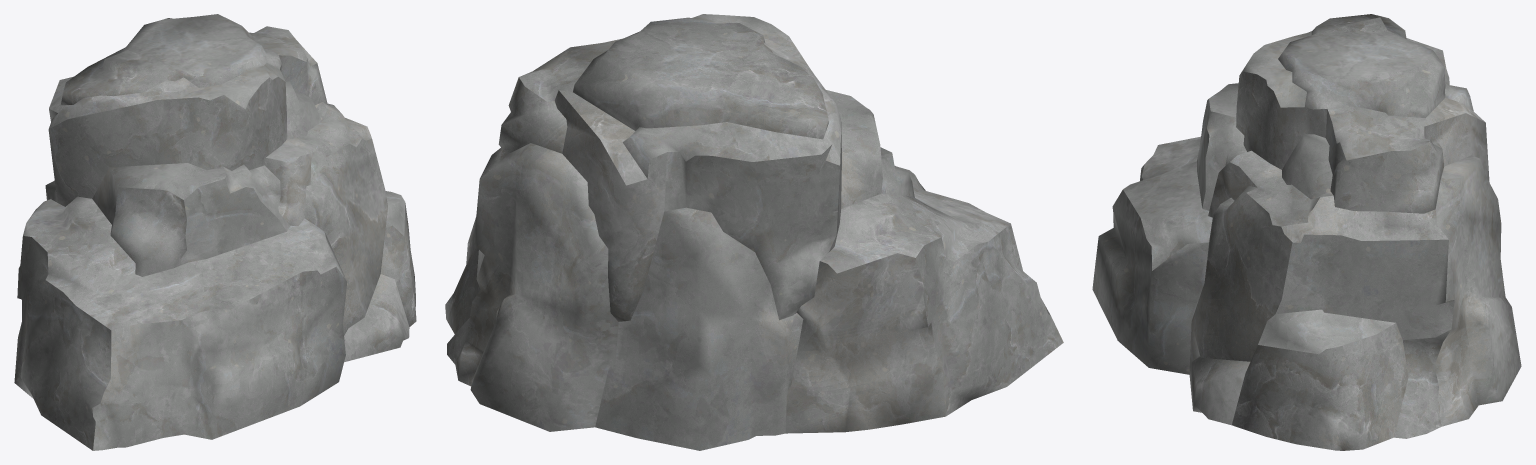
File: SM_Com_Roc_42AS.fbx
The picture shows the model from 3 angles, left to right: view 1: azimuth 30°, elevation 25°; view 2: azimuth 150°, elevation 25°; view 3: azimuth 270°, elevation 25°; orthographic projection. The views are drawn at different scales.
Parts seen in each view (by area): view 1: SM_Com_Roc_42AS.mo; view 2: SM_Com_Roc_42AS.mo; view 3: SM_Com_Roc_42AS.mo.
Boxes of the visible parts, box(x1,y1,x2,y2) form: SM_Com_Roc_42AS.mo: box(14, 14, 416, 450); SM_Com_Roc_42AS.mo: box(445, 14, 1063, 450); SM_Com_Roc_42AS.mo: box(1092, 14, 1521, 450).
Size of the model in its own units: 23.07 by 14.52 by 19.36.
